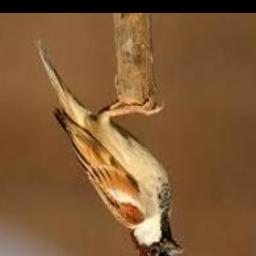Sparrow: (34, 37, 184, 256)
